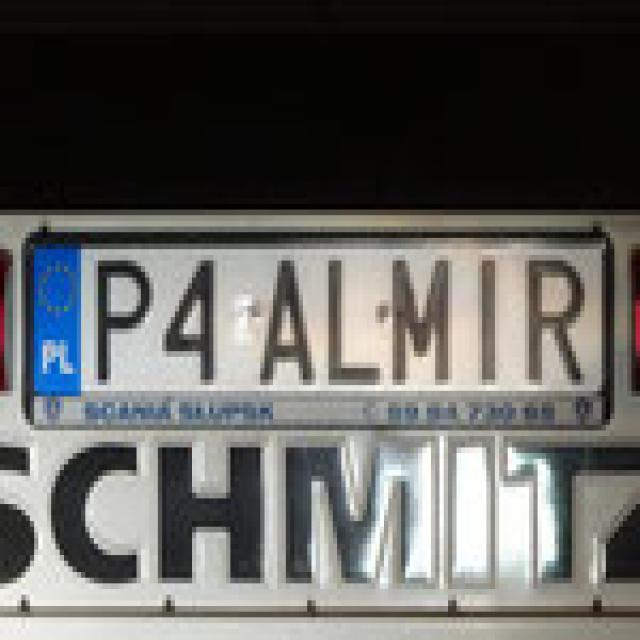pl_license_plate: (26, 238, 597, 385)
